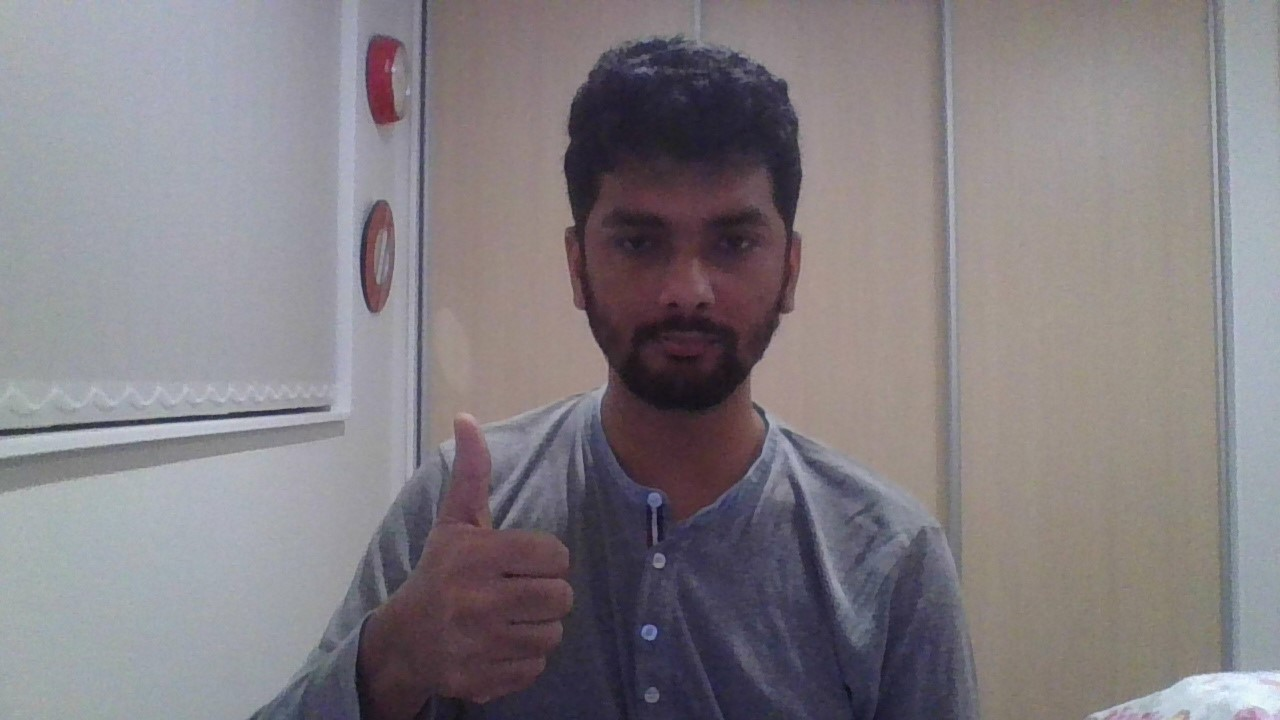good: (380, 412, 573, 702)
